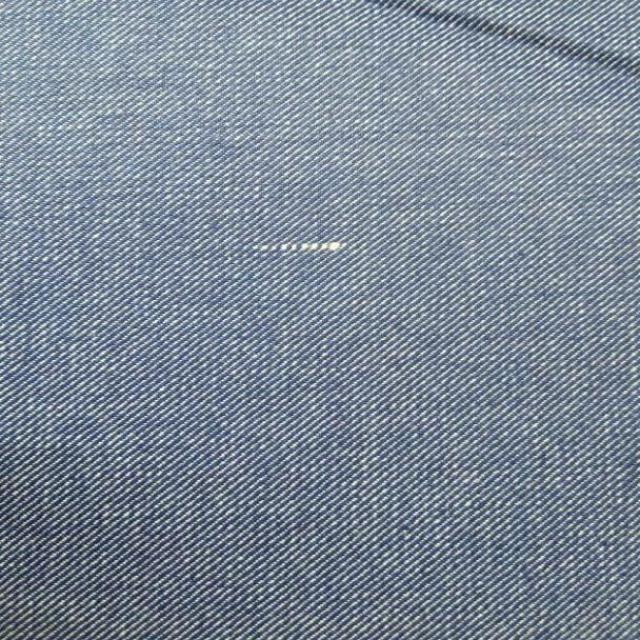Knot: (254, 242, 347, 252)
